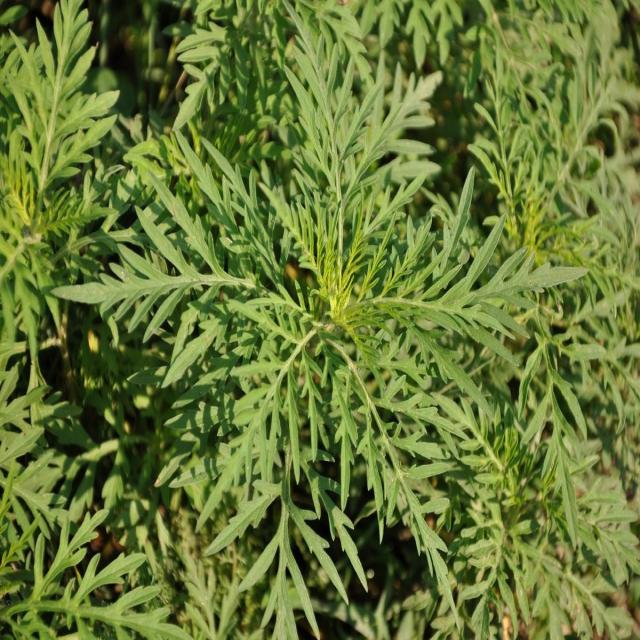ambrosia: (164, 77, 532, 533)
